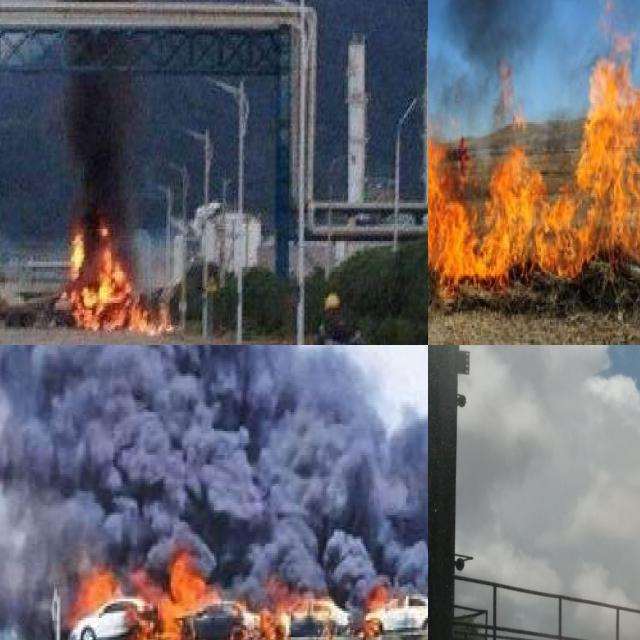fire: (428, 60, 640, 297), (79, 548, 428, 640), (64, 215, 176, 339)
smoke: (0, 345, 428, 582), (39, 0, 145, 213), (428, 0, 640, 78)
